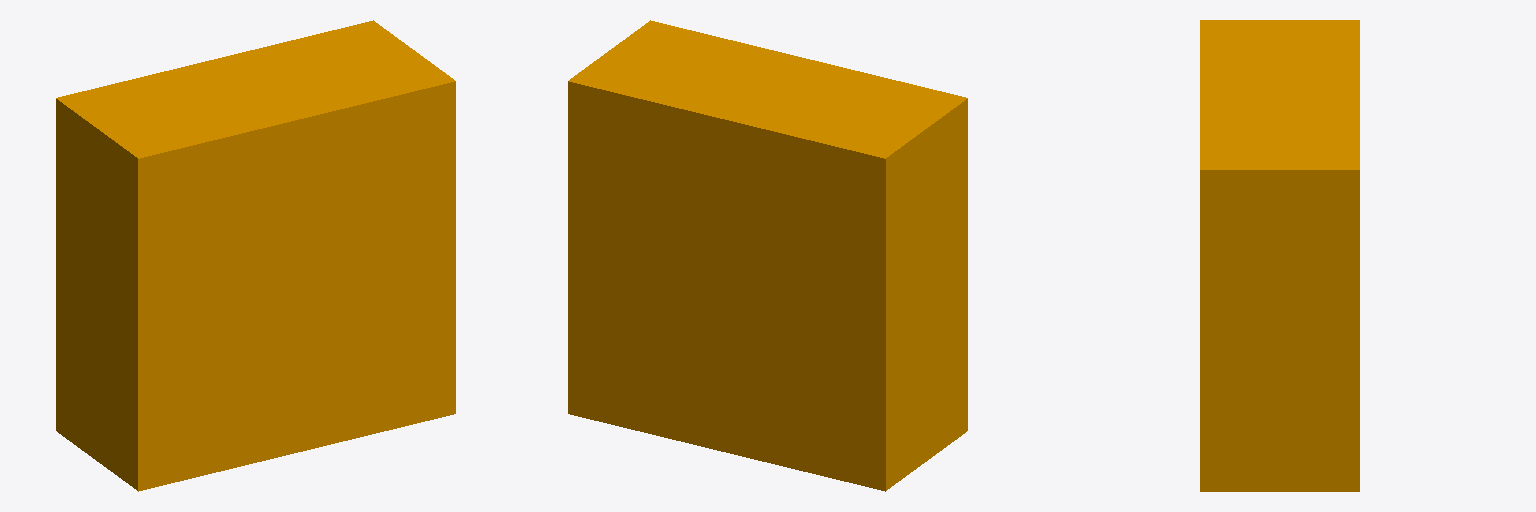
URDF robot description (brownOnionCube):
<?xml version="1.0"?>
<robot name="brownOnionCube">
  <link name="cube">
    <inertial>
        <origin rpy="0 0 0" xyz="0 0 0"/>
        <mass value="0.01"/>
        <inertia ixx="4.4e-5" ixy="0" ixz="0" iyy="0" iyz="0" izz="4.4e-5"/>
    </inertial>
    <visual>
      <geometry>
        <mesh filename="cubedOnion.obj"/>
      </geometry>
    </visual>
    <collision>
      <geometry>
        <mesh filename="cubedOnion.obj"/>
      </geometry>
      <surface>
           <bounce restitution_coefficient = "0.1"/>
      </surface>
    </collision>
  </link>
</robot>

--- What the picture shows (computed from the rendered views, not written in the file) ---
The picture shows the robot from 3 angles, left to right: view 1: azimuth 30°, elevation 25°; view 2: azimuth 150°, elevation 25°; view 3: azimuth 270°, elevation 25°; orthographic projection.
Model brownOnionCube with 1 links and 0 joints (none), rooted at cube, posed all joints at 0.
Visible links, largest first — view 1: cube; view 2: cube; view 3: cube.
Link boxes in pixels (x1,y1,x2,y2): cube: [56, 20, 455, 491]; cube: [568, 20, 967, 491]; cube: [1200, 20, 1359, 491].
Size in the robot's own frame: 0.0213 by 0.0096 by 0.0213 metres.
1 mesh visuals loaded from 1 distinct referenced files (1 OBJ).
